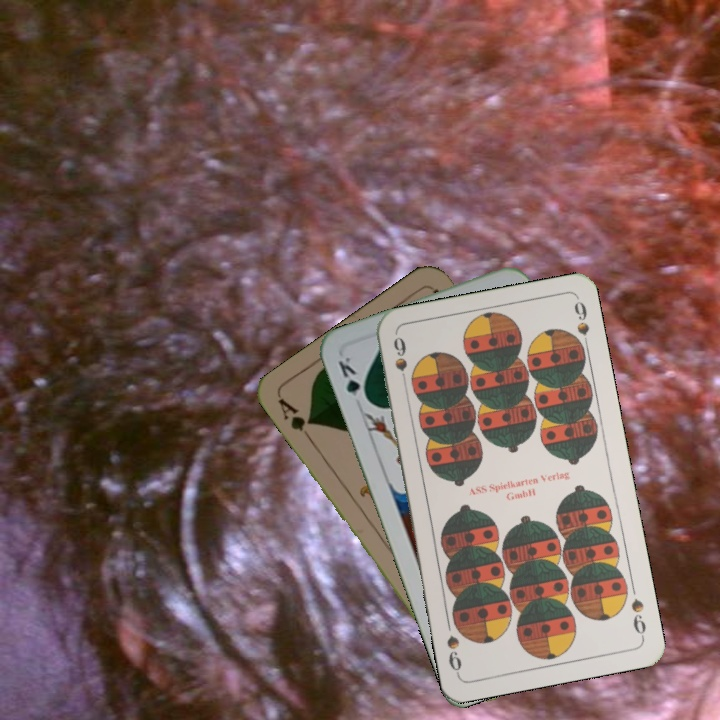GA: (274, 394, 316, 445)
GK: (334, 352, 371, 406)
S9: (627, 594, 649, 641), (389, 332, 410, 378)
